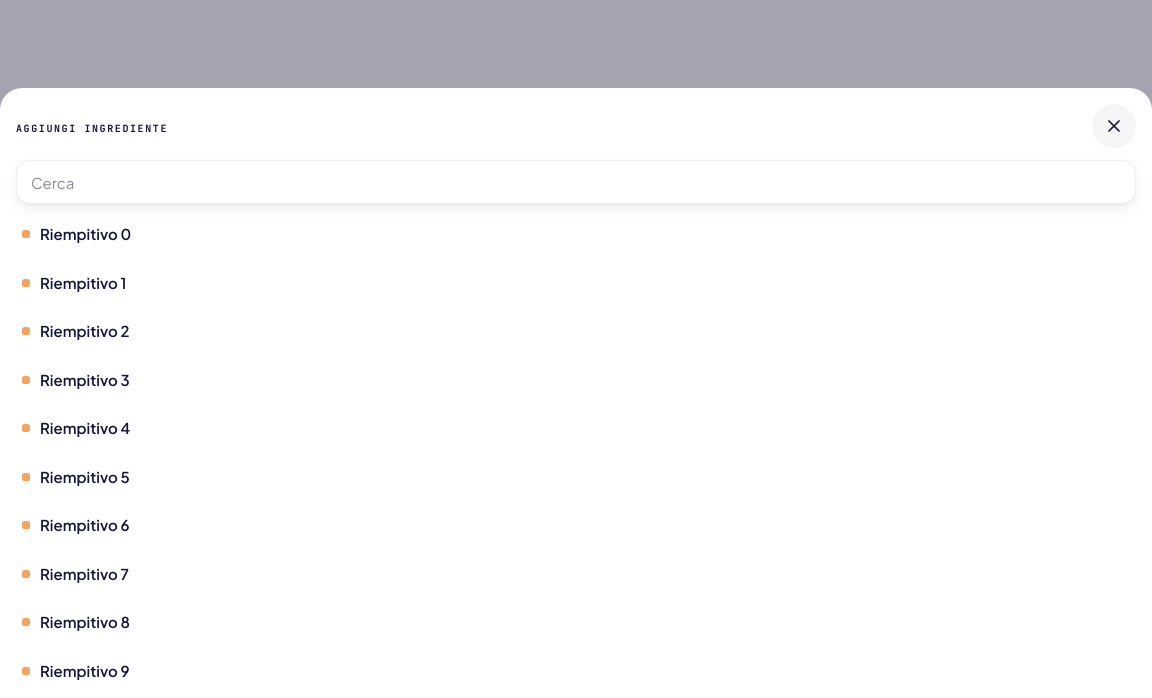
Test: SelettoreIngrediente (spec fase 7 §B.4) › la ricerca filtra dentro il nome, senza accenti e senza maiuscole
Type "CAFFE" into the search field named "Cerca un ingrediente".
click(576, 182); type("CAFFE")  # box [16, 160, 1136, 204]
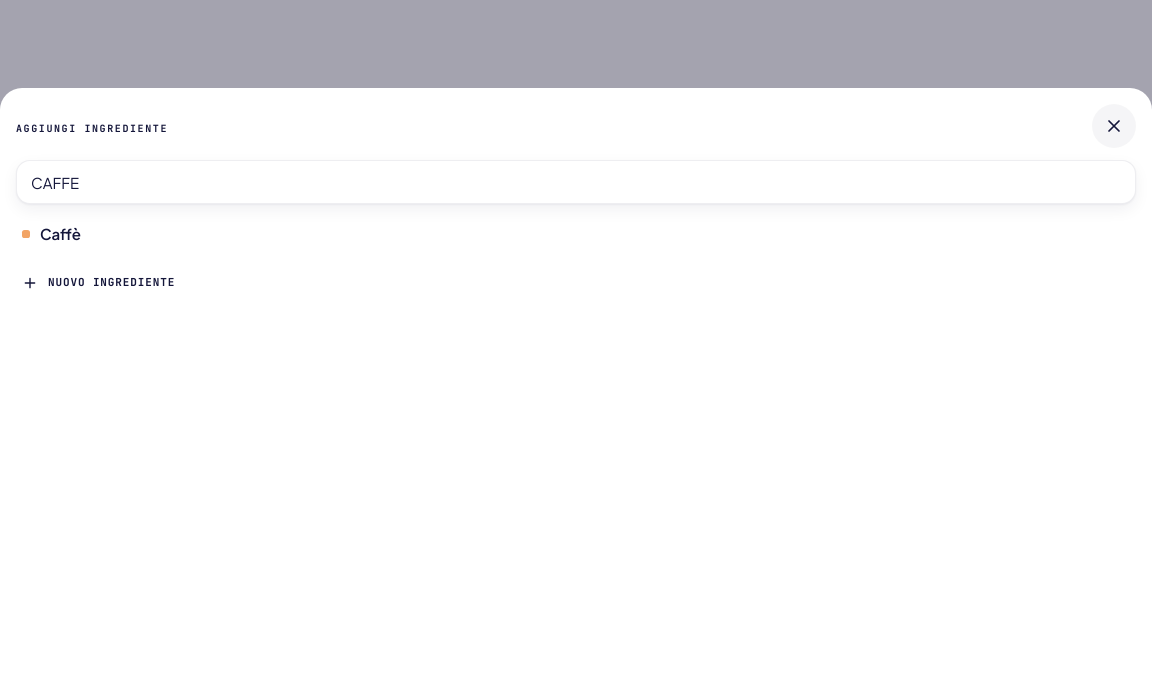
Expected: the button "Caffè" is shown, [16, 212, 1136, 256]
Expected: the button "Riempitivo 0" is gone
Replace the text in the search field named "Cerca un ingrediente" with "pitivo 1" at (576,182), box [16, 160, 1136, 204]
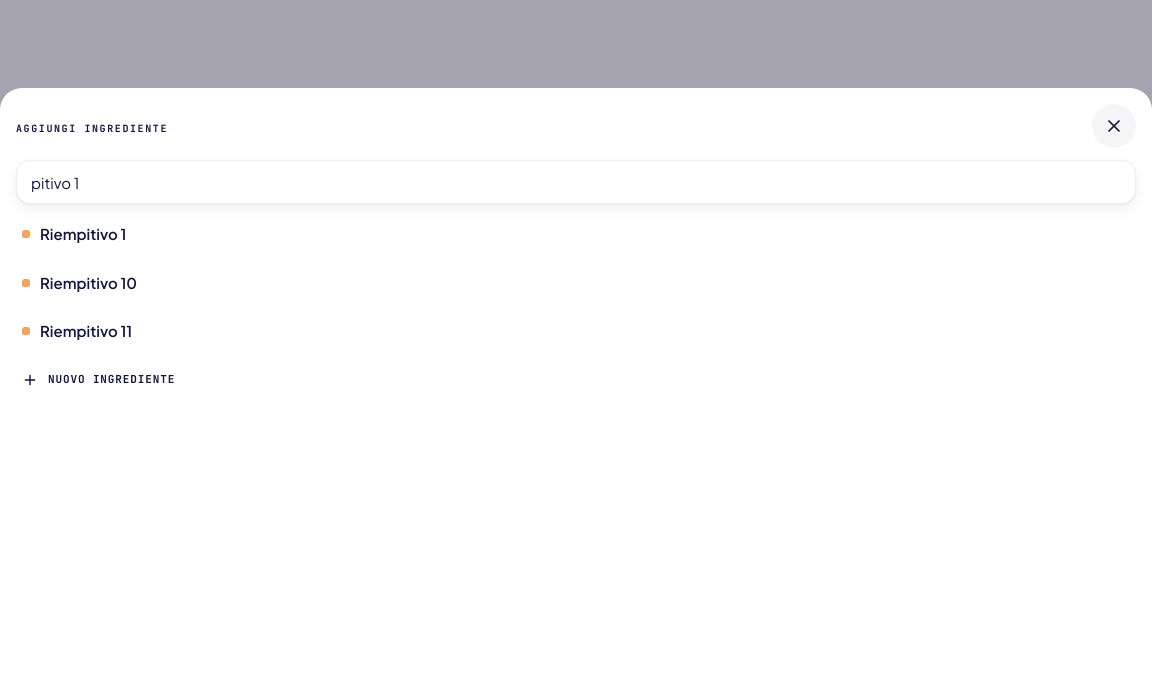
Expected: the button "Riempitivo 2" is not shown
Expected: the button "Riempitivo 1" is shown, [16, 212, 1136, 256]
Expected: the button "Riempitivo 11" is shown, [16, 309, 1136, 354]
